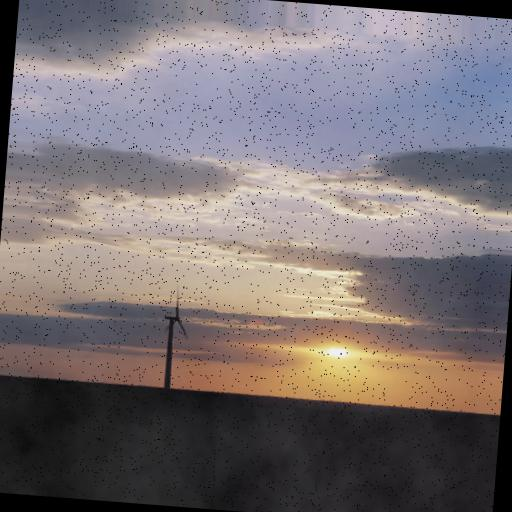wind turbine: (160, 284, 189, 392)
